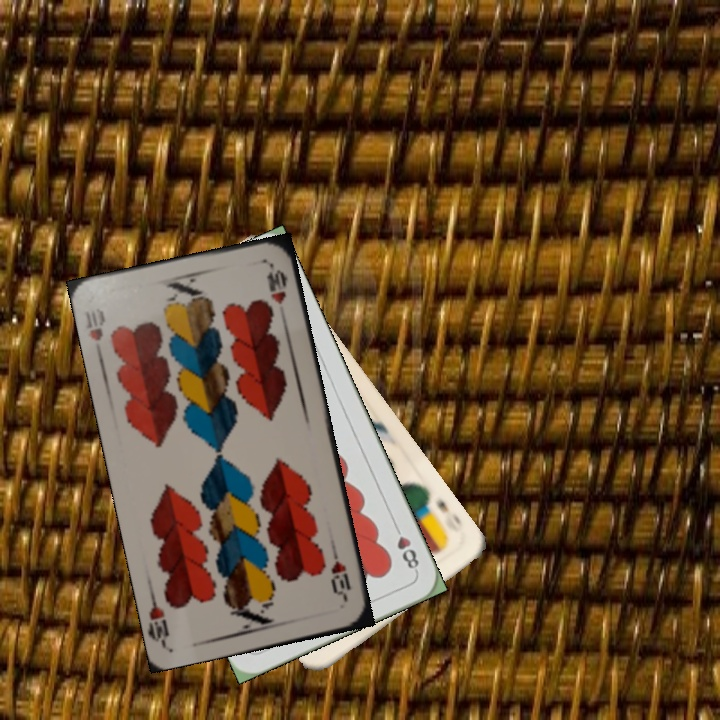EO: (422, 490, 452, 517)
H10: (327, 545, 354, 604), (81, 304, 108, 360)
H8: (389, 519, 422, 575)
